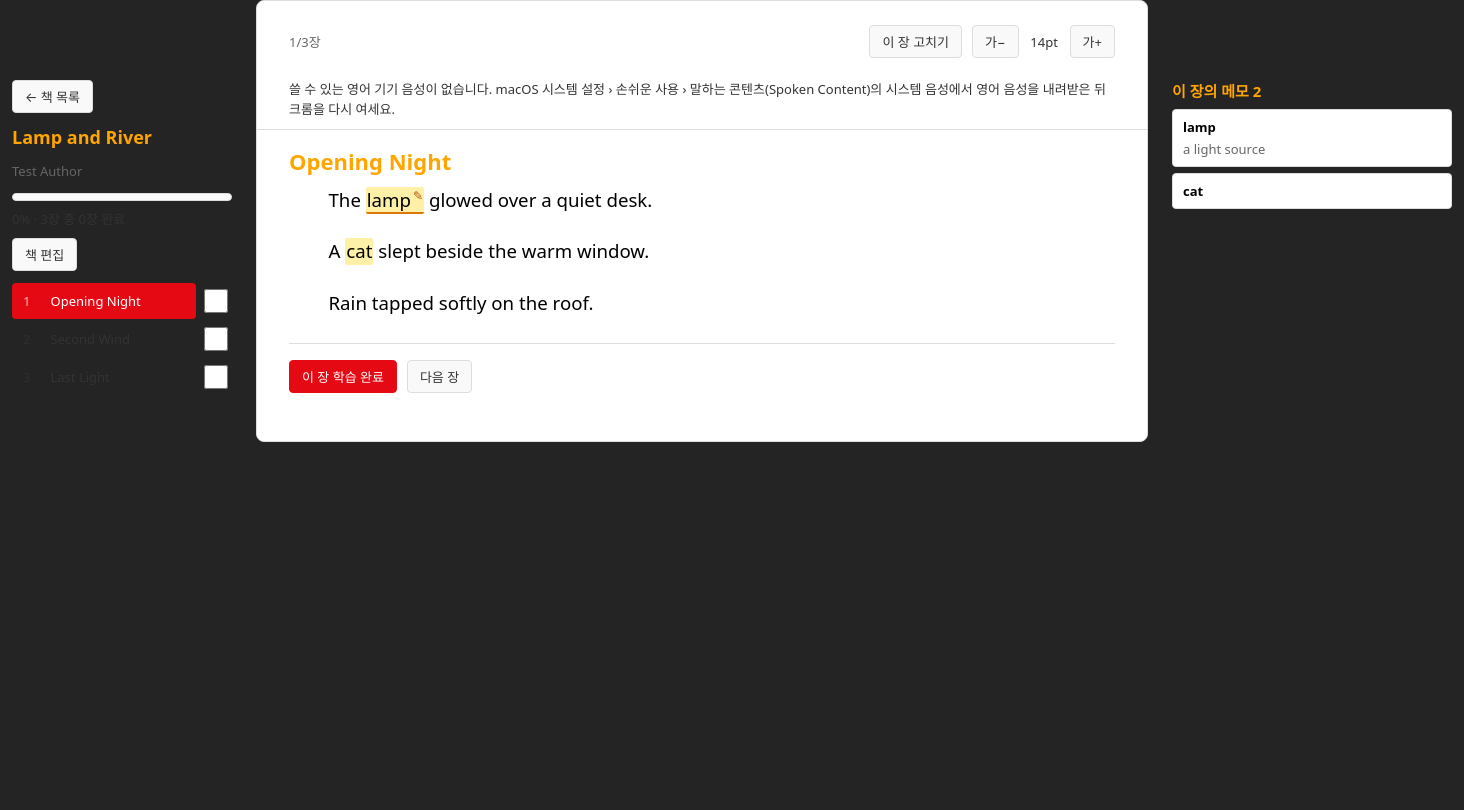
Test case: BookReader › 4.4-2 원서 문단의 하이라이트·메모 (SentenceList.test.tsx와 같은 시나리오) › 4.4-2 메모가 있는 하이라이트는 has-note로 표시되고, 칠한 곳을 누르면 메모 영역이 열린다
Expected: the element showing "The lamp glowed over a quiet desk." is shown, [328,187,652,214]
Click the element showing "lamp" at (395, 200), box [366,187,424,214]
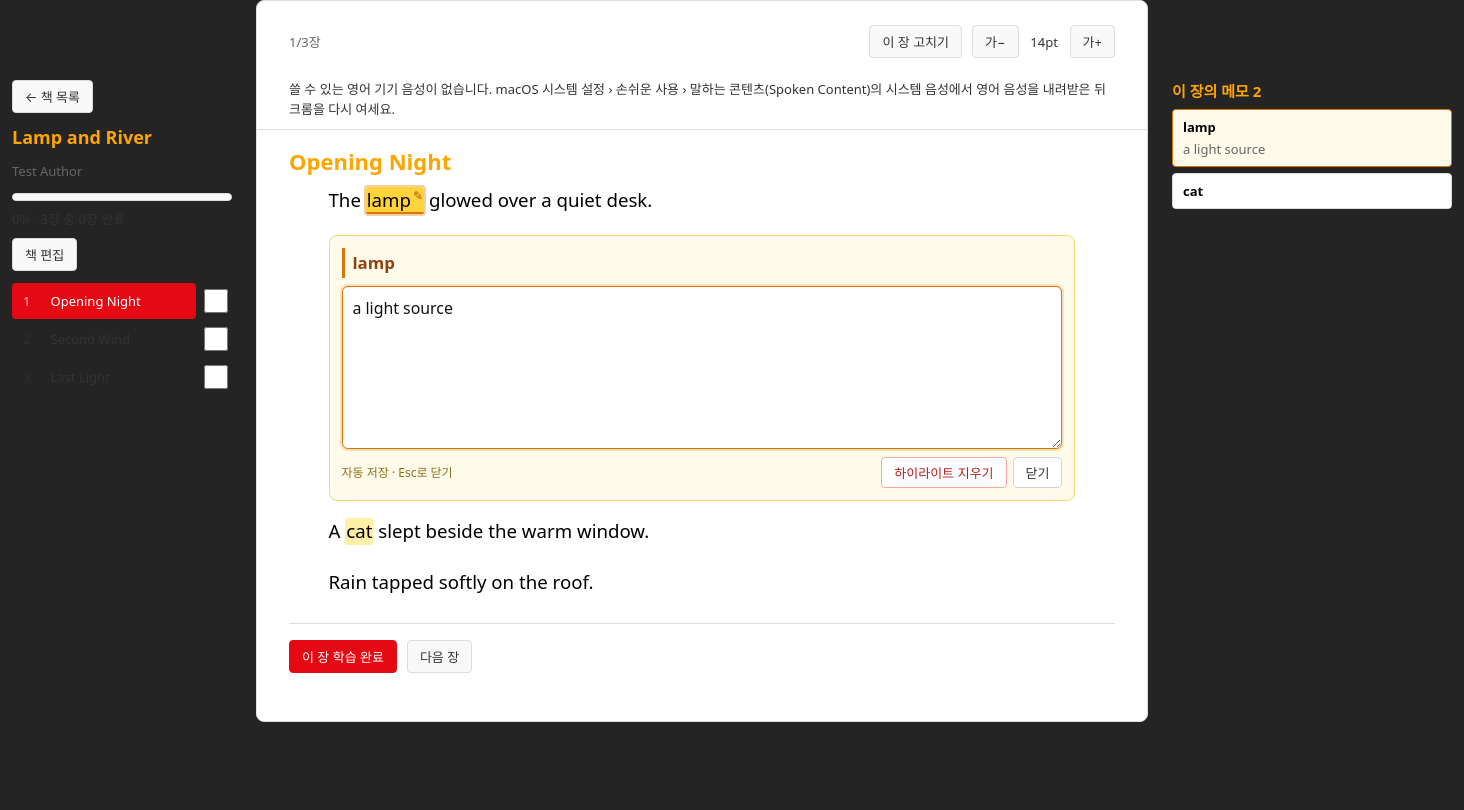
Expected: the text box named "메모" holds "a light source", [342,286,1062,449]
